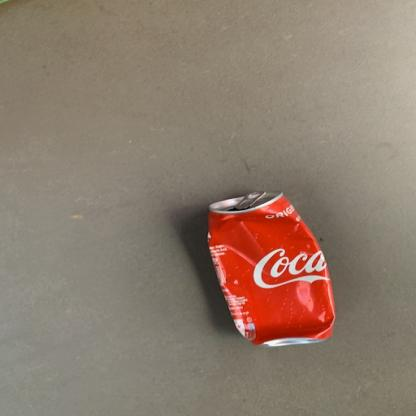trash: (194, 188, 354, 353)
